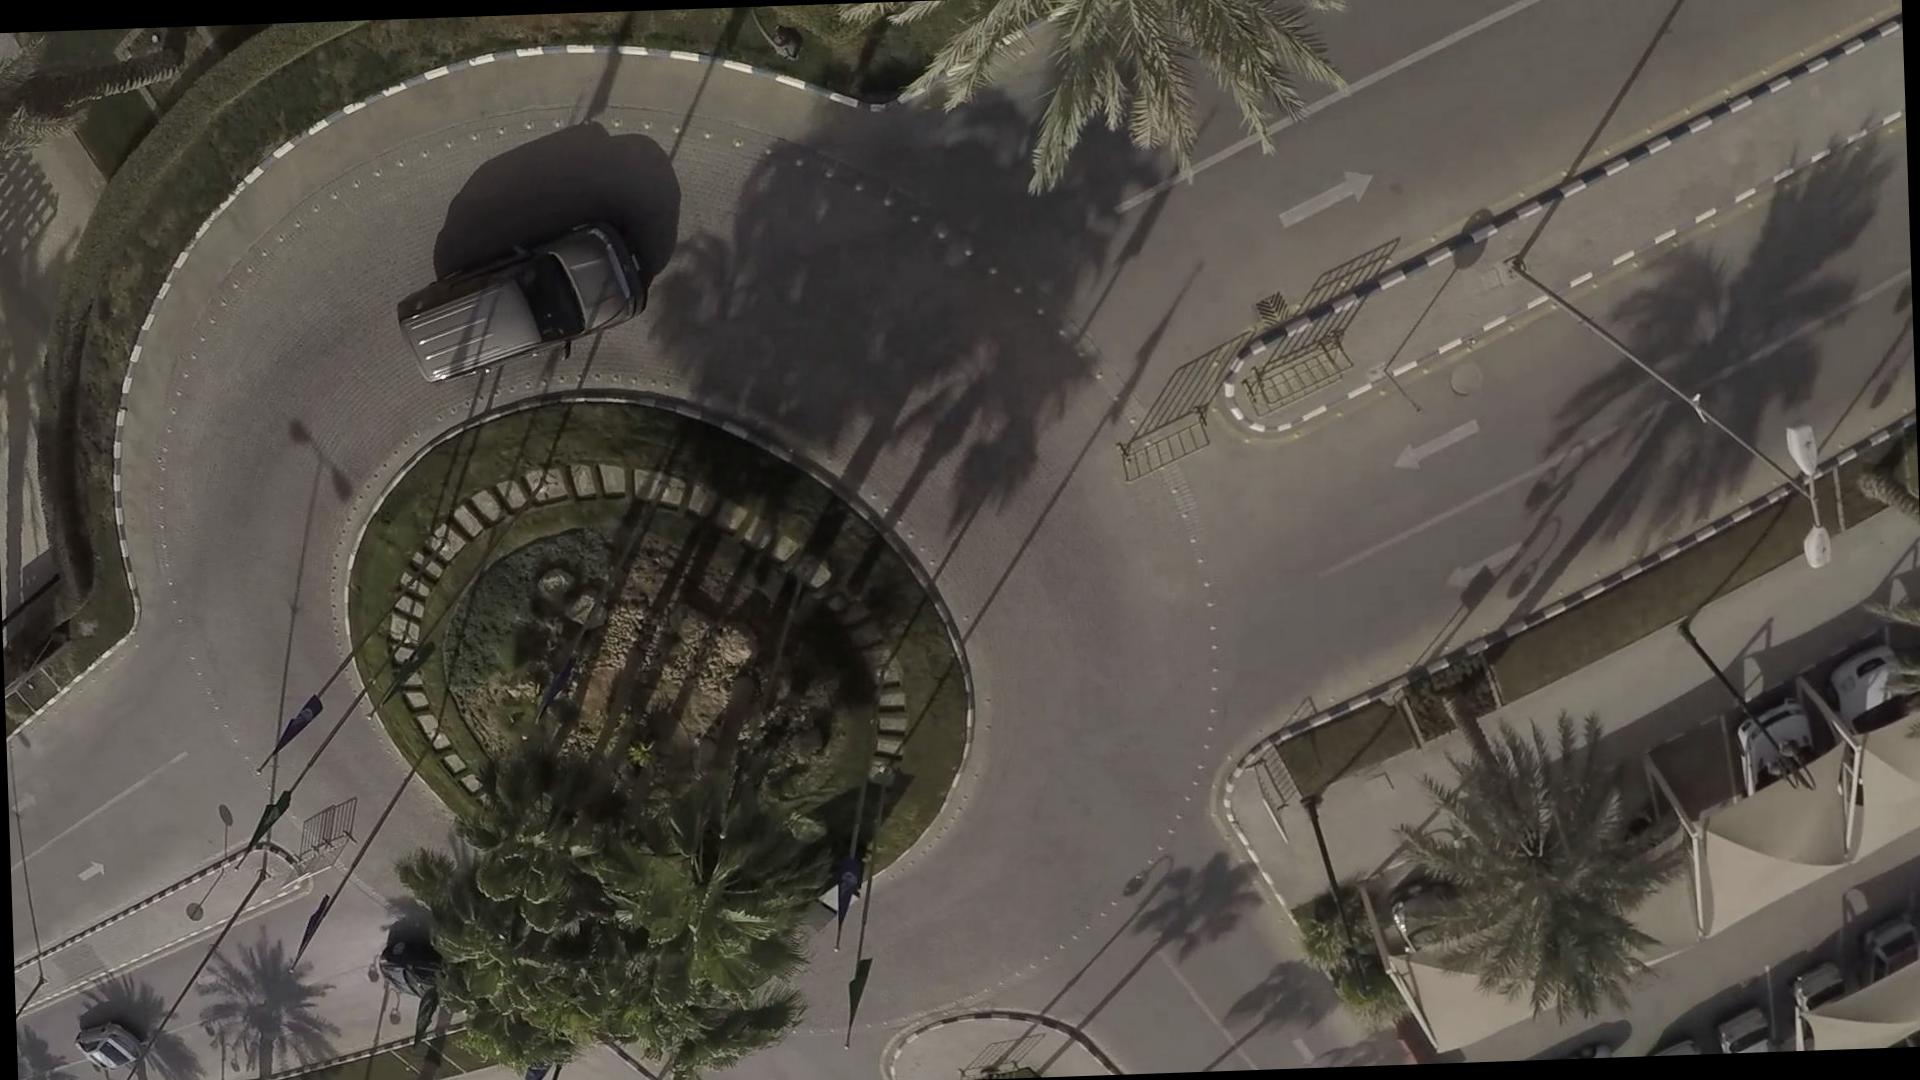vehicle: (376, 217, 648, 392), (68, 1019, 142, 1080)
